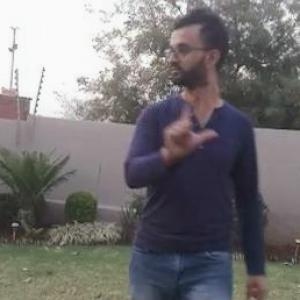land_hand: (158, 90, 214, 160)
